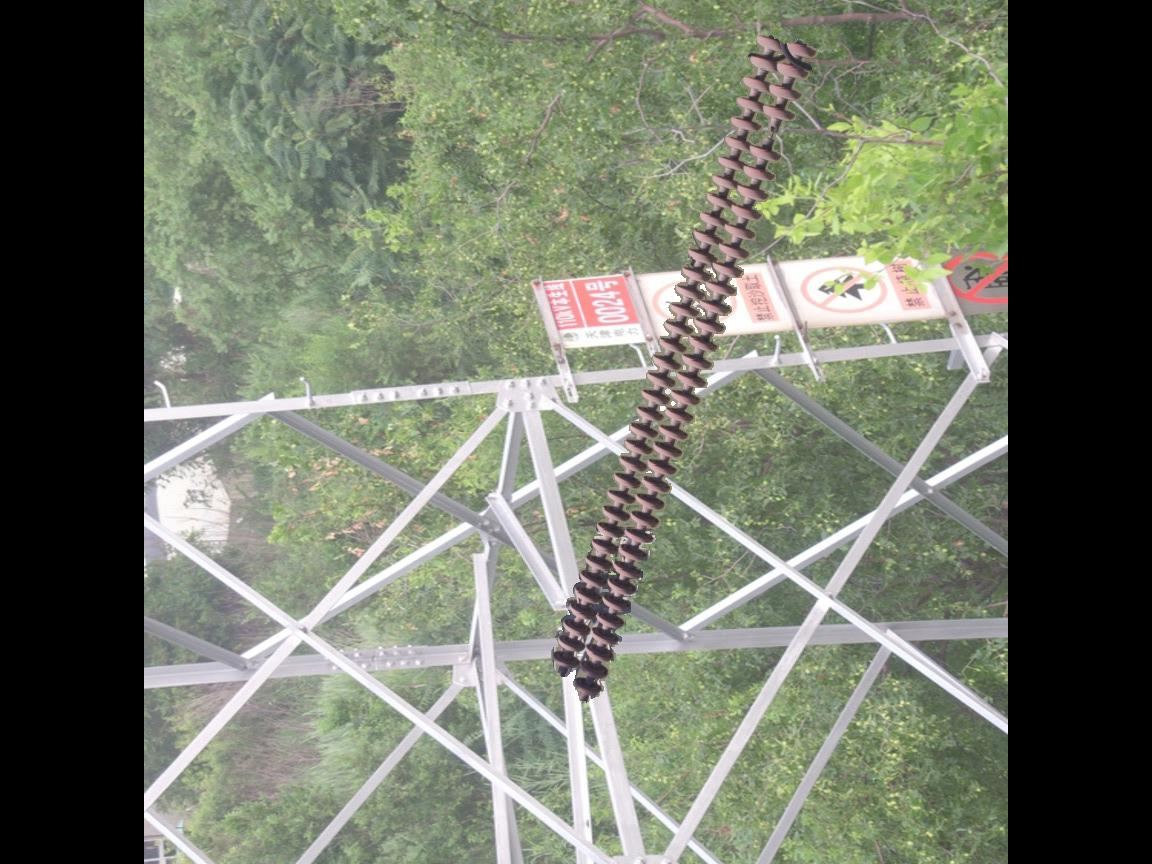insulator: (546, 30, 819, 703)
insulator_stringdrop: (746, 103, 797, 165)
